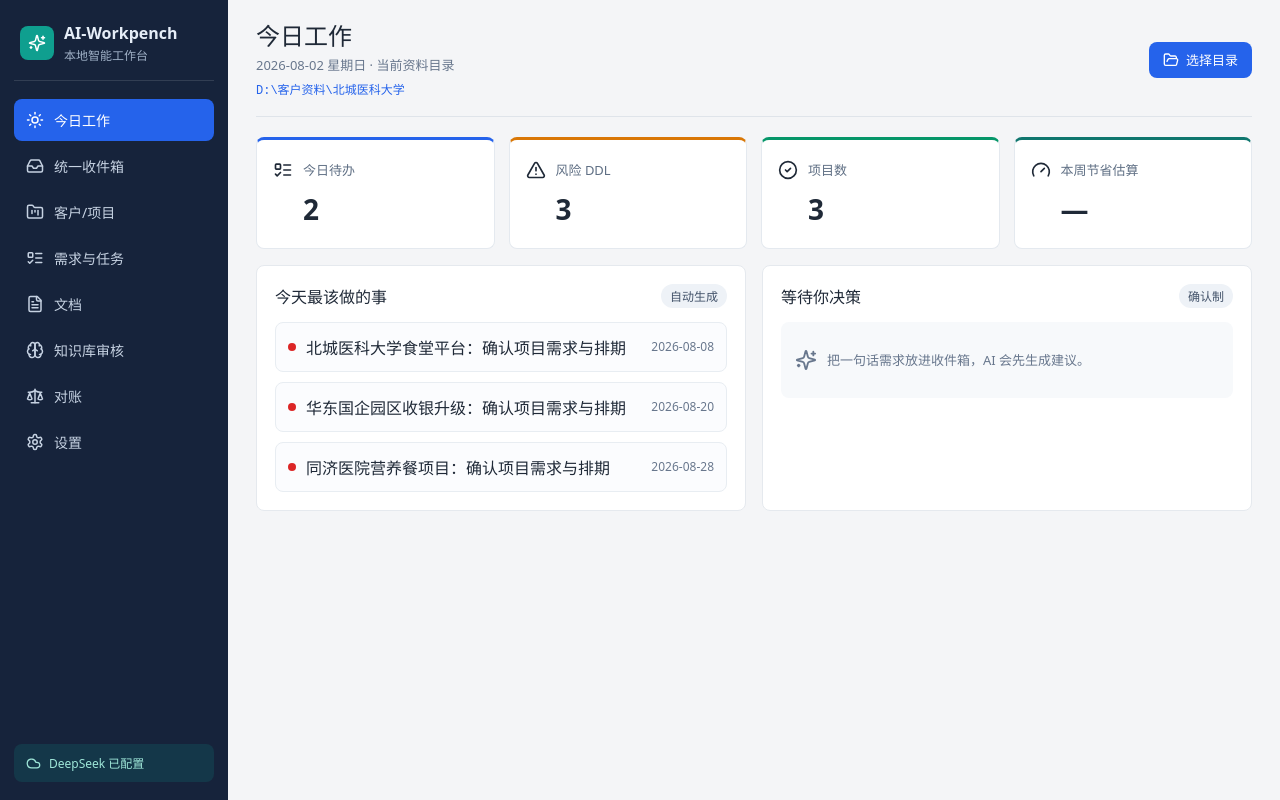
it: App › switches to settings
Step 1. Click the button "设置" → (114, 442), box [14,421,214,463]
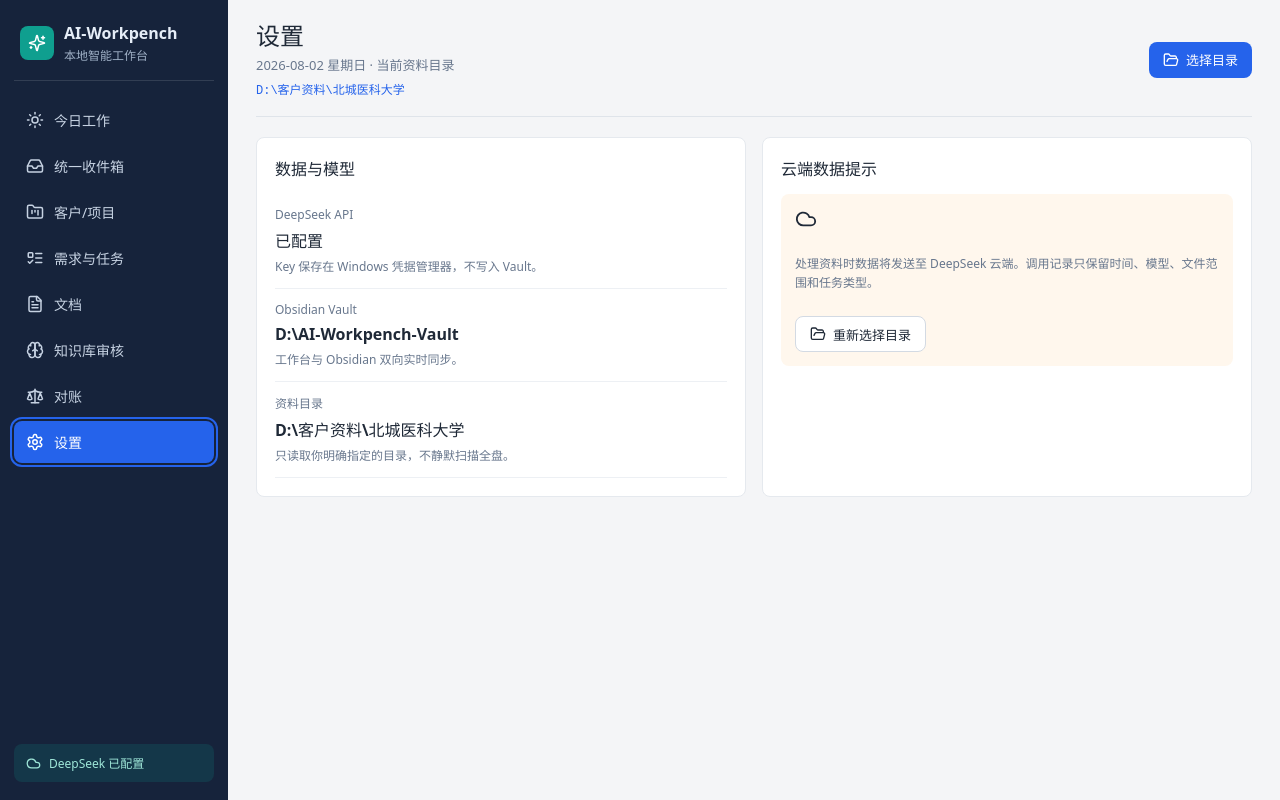
Check: the text "DeepSeek 已配置" is shown, box [49,754,144,772]
Check: the heading "数据与模型" is shown, box [275,156,355,180]
